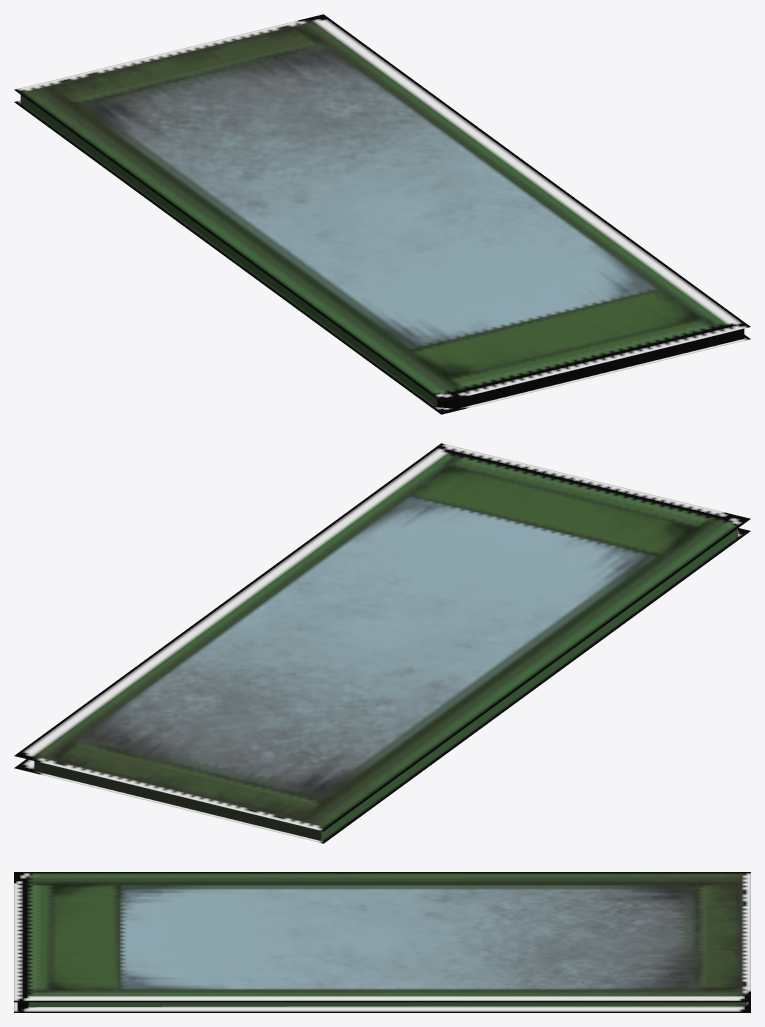
File: pz_native_location_shop_greenes_01_8_frame.obj
3 views of the same model, one above another, from view 1: azimuth 30°, elevation 25°; view 2: azimuth 150°, elevation 25°; view 3: azimuth 270°, elevation 25° (orthographic). The views are drawn at different scales.
Visible parts, largest first — view 1: pz_native_location_shop_greenes_01_8_frame; view 2: pz_native_location_shop_greenes_01_8_frame; view 3: pz_native_location_shop_greenes_01_8_frame.
Part boxes in pixels (bbox=[...]): pz_native_location_shop_greenes_01_8_frame: bbox=[14, 14, 750, 414]; pz_native_location_shop_greenes_01_8_frame: bbox=[14, 443, 750, 843]; pz_native_location_shop_greenes_01_8_frame: bbox=[14, 872, 750, 1012].
Size of the model in its own units: 1.06 by 0.04 by 2.54.
1 material, 1 textured.
